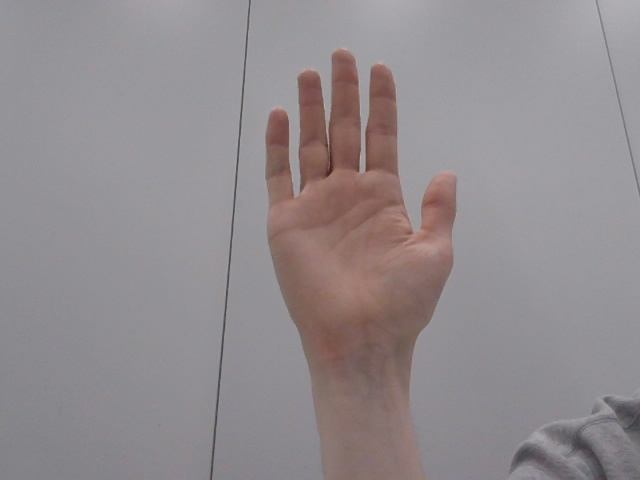nada: (224, 33, 501, 399)
